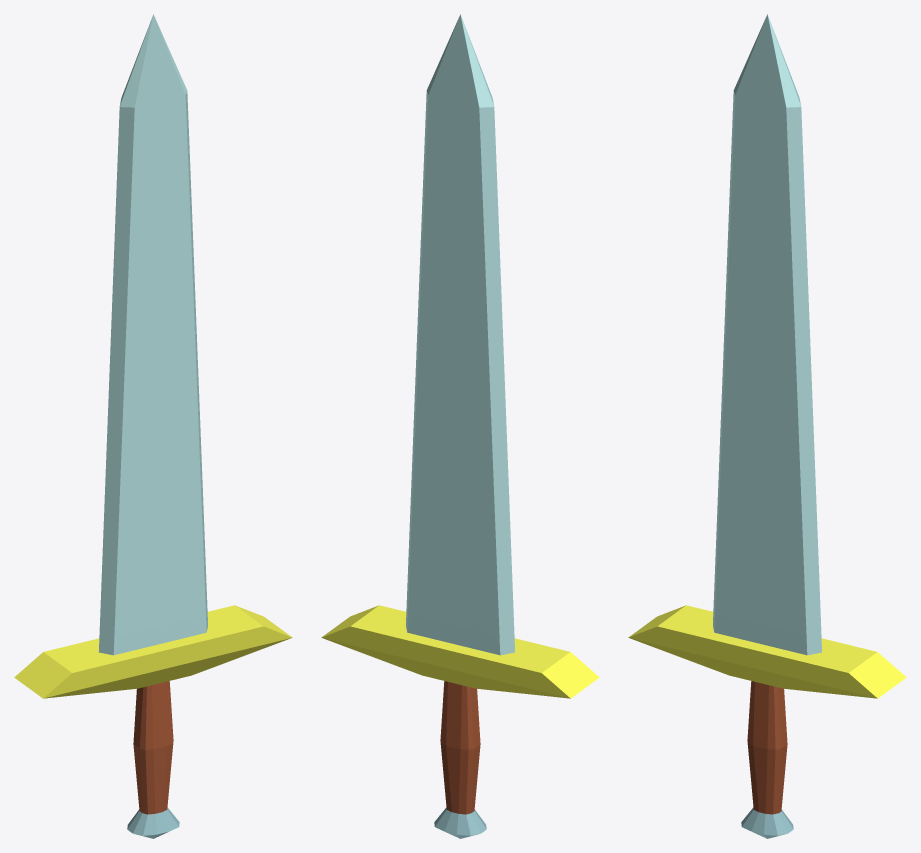
Rendered from sword.glb.
3 renders of one model, left to right at view 1: azimuth 30°, elevation 25°; view 2: azimuth 150°, elevation 25°; view 3: azimuth 330°, elevation 25°, orthographic.
Parts seen in each view (by area): view 1: Grid; view 2: Grid; view 3: Grid.
Part boxes in pixels (x1=…): Grid: x1=14, y1=14, x2=292, y2=838; Grid: x1=321, y1=14, x2=599, y2=838; Grid: x1=628, y1=14, x2=906, y2=838.
Bounding box in the file's own units: 3.01 × 9.5 × 0.6037.
1 material, 1 textured.
